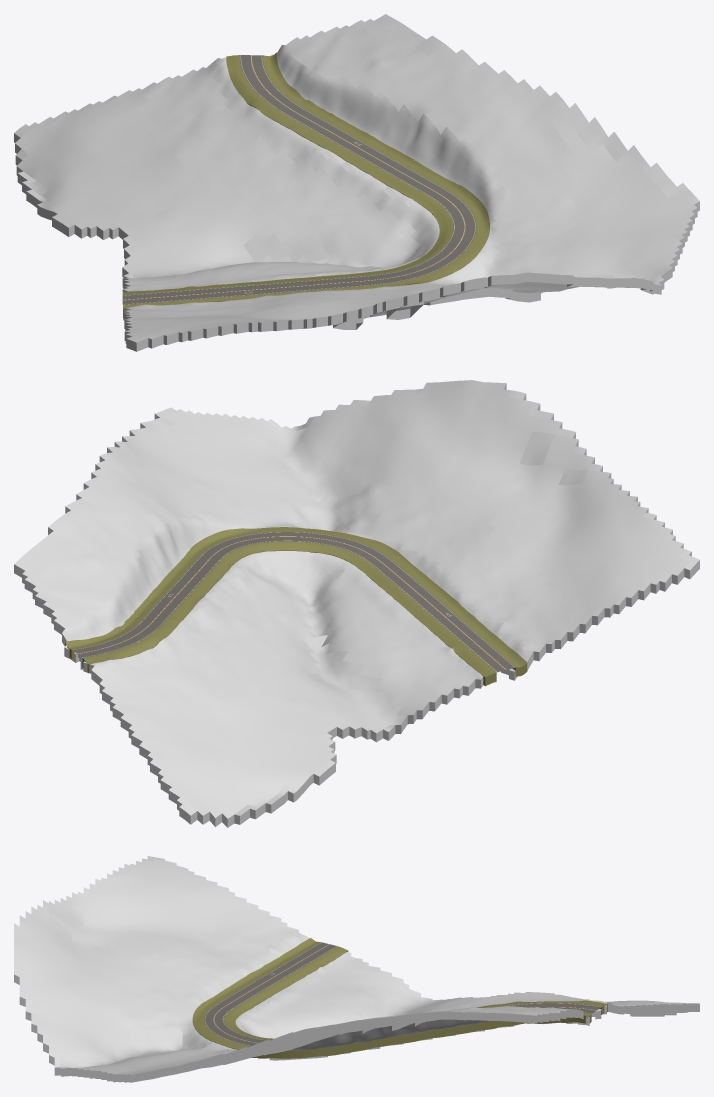
Rendered from conz_76.glb.
3 views of the same model, one above another, from view 1: azimuth 30°, elevation 25°; view 2: azimuth 150°, elevation 25°; view 3: azimuth 270°, elevation 25° (orthographic). The views are drawn at different scales.
Parts seen in each view (by area): view 1: terrain76, road76, verge76L, verge76R, paint_white76, paint_yellow76; view 2: terrain76, road76, verge76R, verge76L, paint_white76; view 3: terrain76, verge76L, road76, verge76R.
Part boxes in pixels (x1=…): terrain76: x1=14, y1=14, x2=699, y2=351; road76: x1=122, y1=55, x2=476, y2=304; verge76L: x1=123, y1=52, x2=489, y2=317; verge76R: x1=122, y1=55, x2=453, y2=304; paint_white76: x1=124, y1=55, x2=475, y2=304; paint_yellow76: x1=124, y1=55, x2=465, y2=300; terrain76: x1=14, y1=380, x2=699, y2=827; road76: x1=72, y1=532, x2=515, y2=672; verge76R: x1=82, y1=541, x2=496, y2=686; verge76L: x1=65, y1=527, x2=527, y2=676; paint_white76: x1=73, y1=532, x2=514, y2=671; terrain76: x1=14, y1=856, x2=699, y2=1082; verge76L: x1=192, y1=938, x2=591, y2=1058; road76: x1=204, y1=942, x2=601, y2=1046; verge76R: x1=224, y1=946, x2=607, y2=1040.
Size of the model in its own units: 188 by 51.39 by 236.
